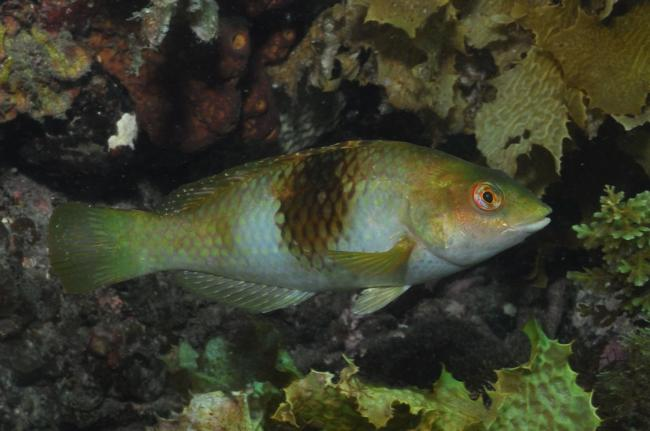fish: (47, 139, 553, 317)
